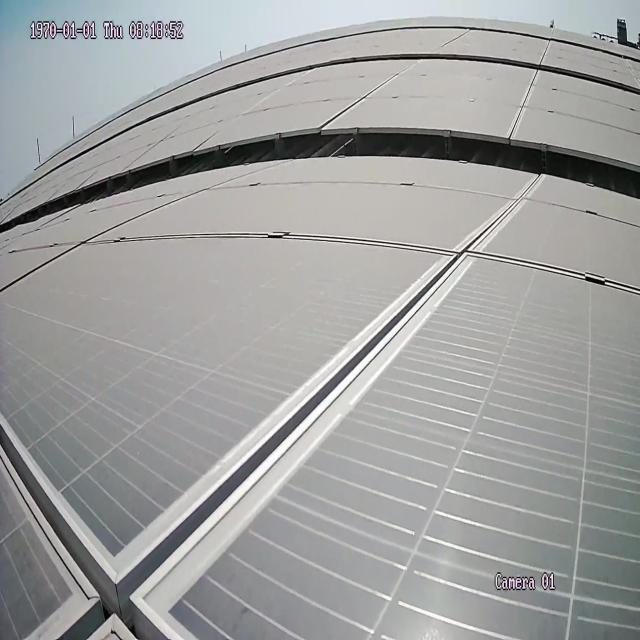interior panel: (2, 184, 538, 638), (321, 65, 414, 123), (510, 73, 543, 133)
outher panel: (0, 131, 640, 234)
